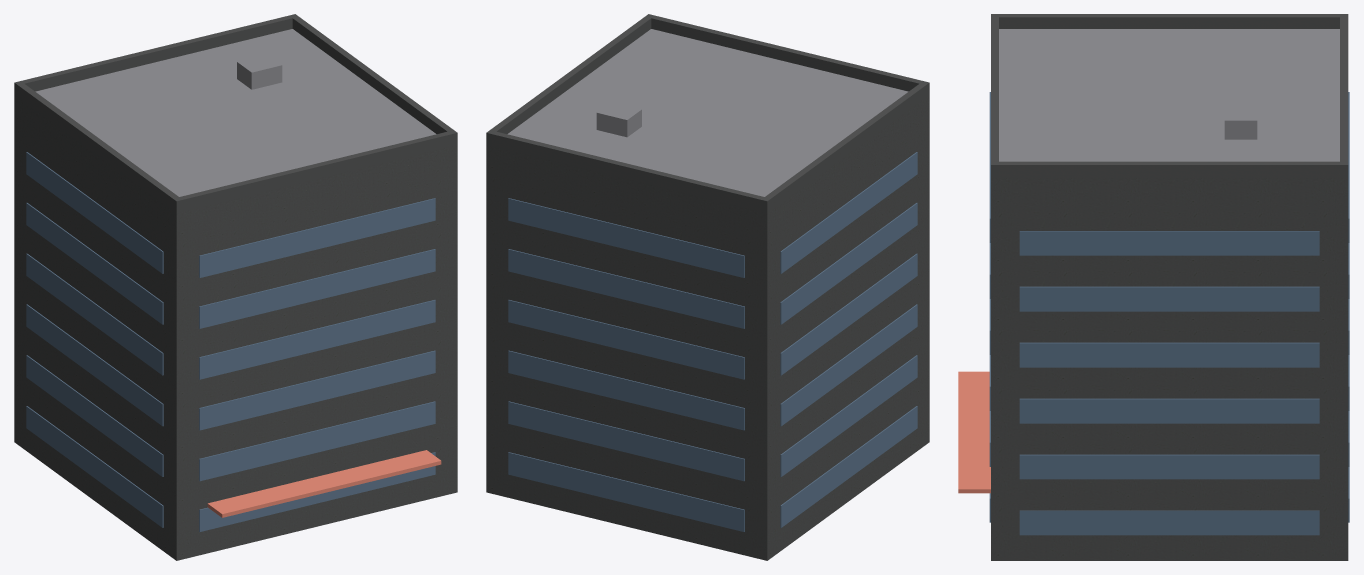
Rendered from building_tower_tall.glb.
3 views of the same model, side by side, from view 1: azimuth 30°, elevation 25°; view 2: azimuth 150°, elevation 25°; view 3: azimuth 270°, elevation 25° (orthographic). The views are drawn at different scales.
Visible parts, largest first — view 1: TowerRoot; view 2: TowerRoot; view 3: TowerRoot.
Boxes of the visible parts, x1,y1,x2,y2 form: TowerRoot: (14,14,457,560); TowerRoot: (486,14,929,560); TowerRoot: (958,14,1349,560).
Bounding box in the file's own units: 22.16 × 27.4 × 24.08.
4 materials, 1 textured.
